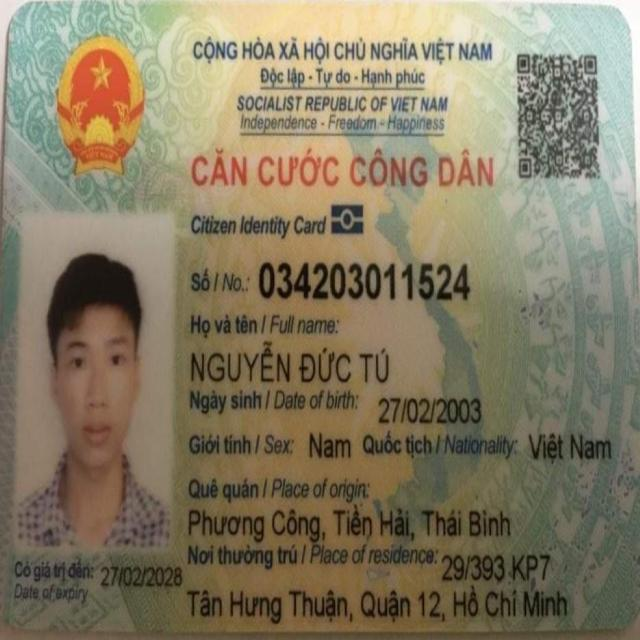current_place: (183, 583, 571, 627), (439, 551, 552, 585)
dob: (376, 392, 483, 427)
expire_date: (97, 562, 185, 594)
gender: (308, 429, 352, 462)
id: (256, 256, 473, 307)
name: (189, 338, 391, 388)
nationality: (527, 430, 613, 467)
origin_place: (186, 501, 512, 546)
qr: (512, 44, 609, 188)
